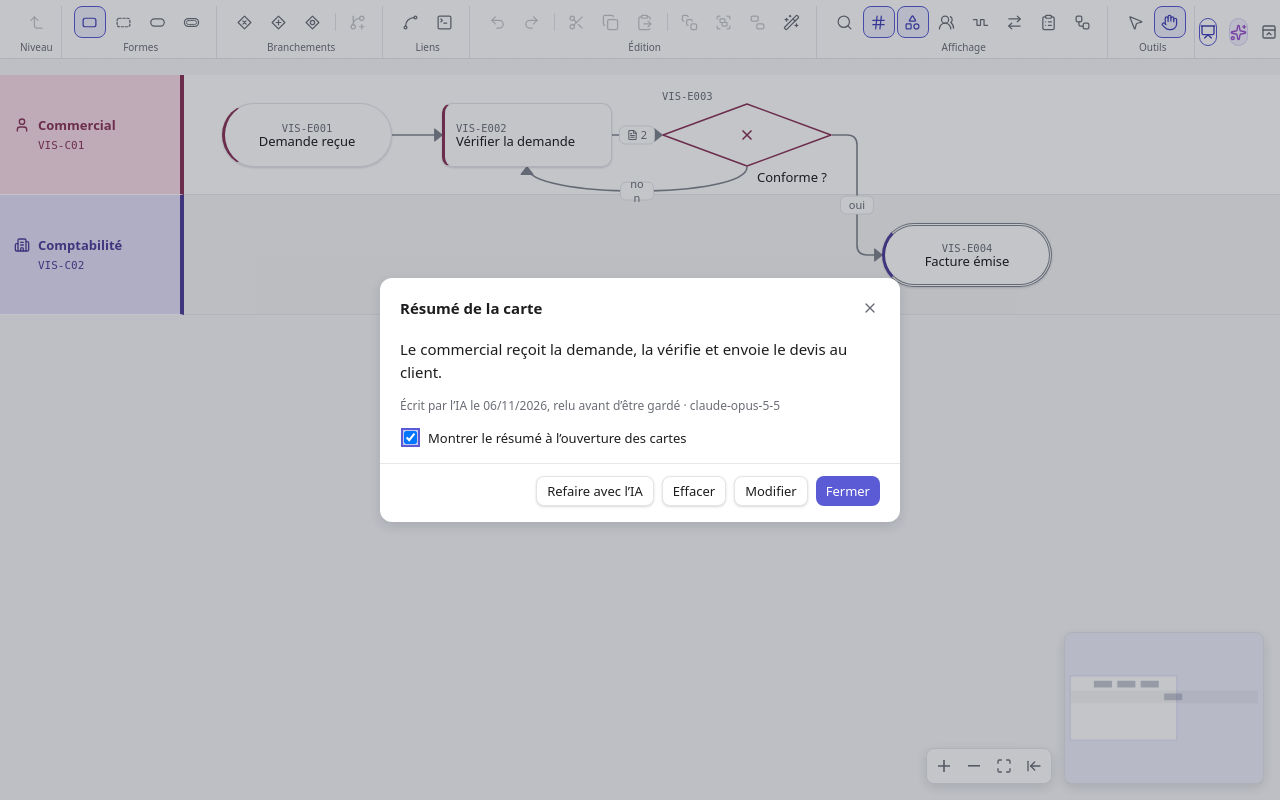
Test: the panel of the summary (plan 3.1, lot R) › writes the sentence corrected by hand with the version it replaces, and erases it
This screenshot has width=1280, height=800.
Step 1. Click the button with test id "summary-edit" → click(771, 491), box [734, 476, 808, 506]
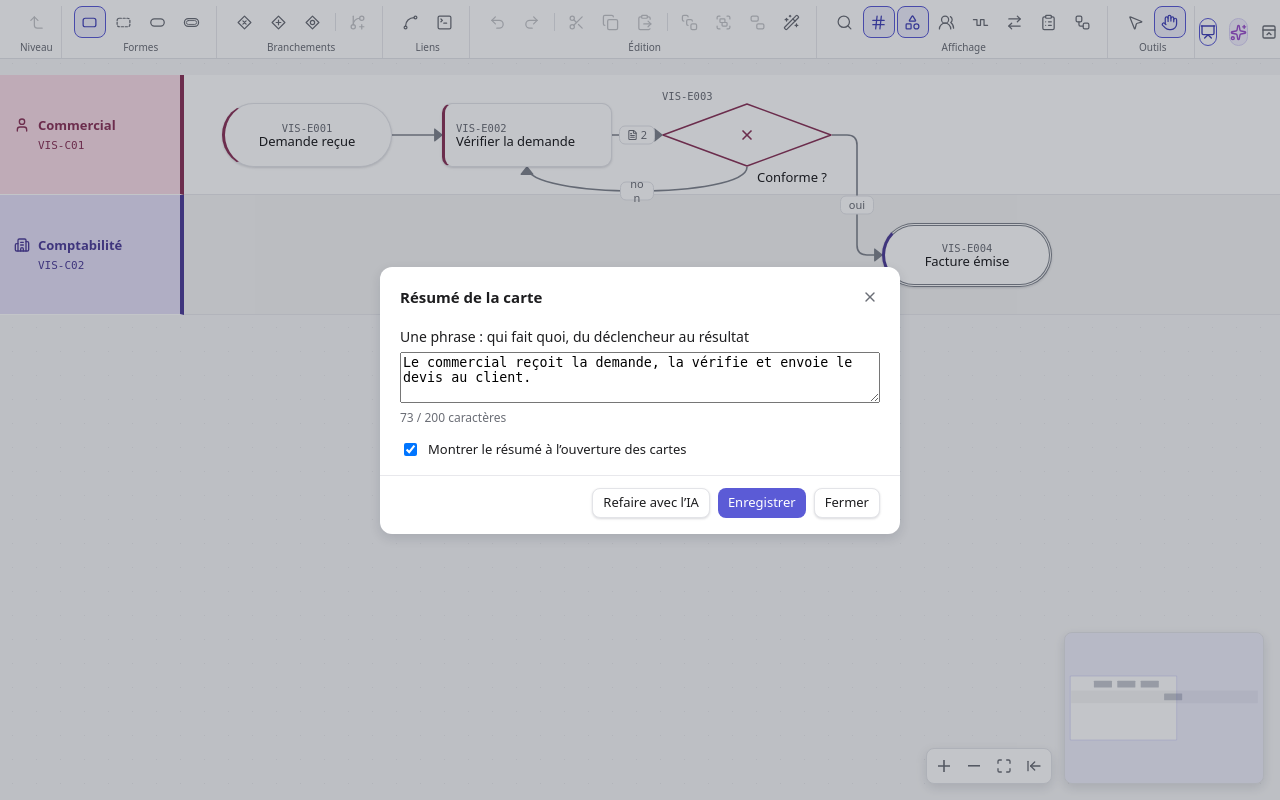
Step 2. Replace the text in the text box with test id "summary-draft" with " Le commercial envoie le devis. " → (640, 377), box [400, 352, 880, 402]
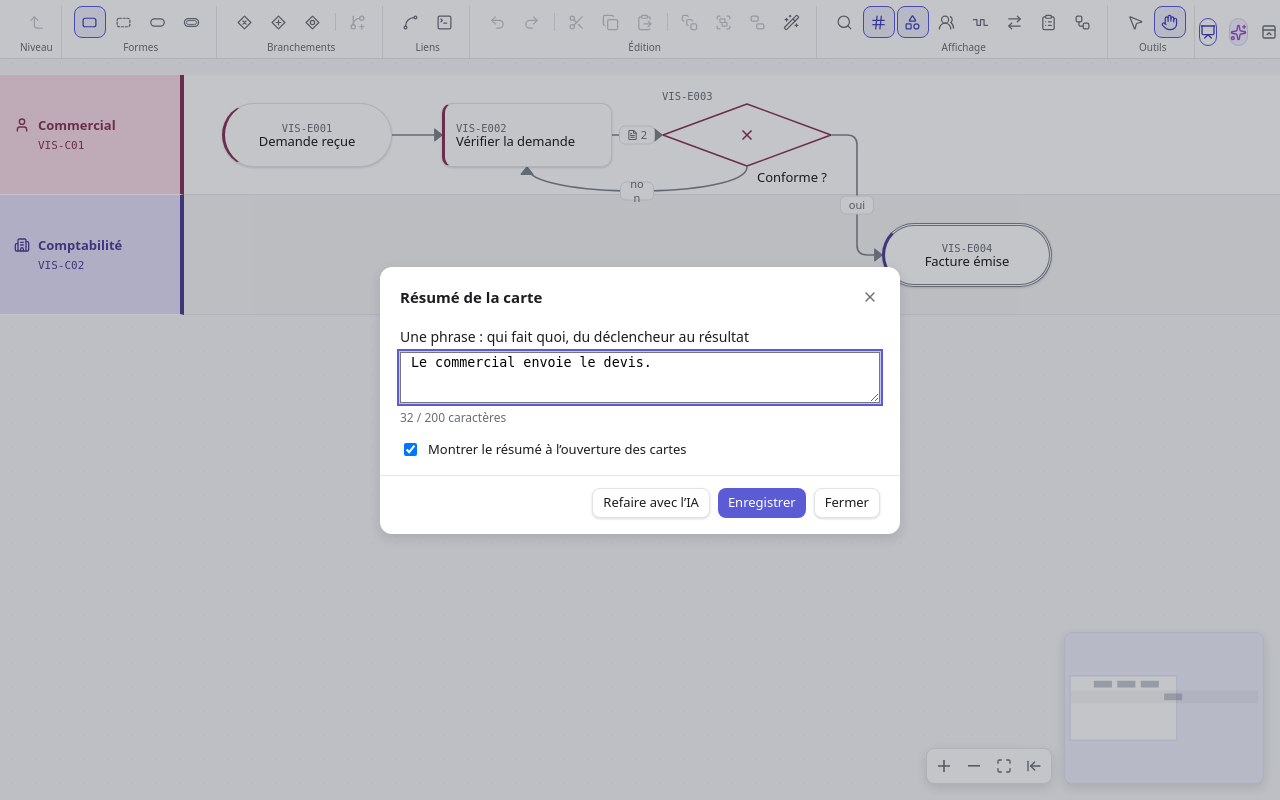
Step 3. Click the button with test id "summary-save" → click(762, 502), box [718, 488, 806, 518]
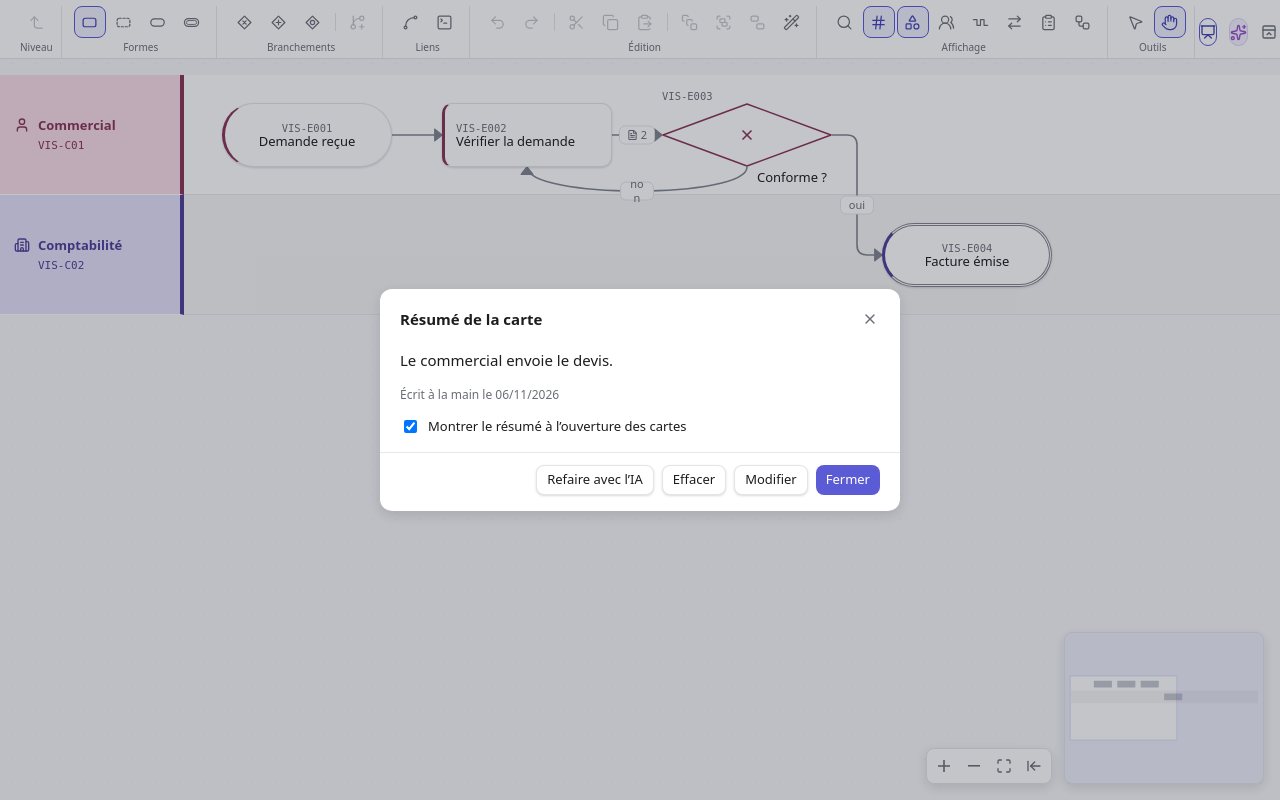
Result: the text with test id "summary-text" reads "Le commercial envoie le devis." at [400, 350, 613, 370]
Step 4. Click the button with test id "summary-erase" → click(694, 480), box [662, 465, 726, 495]
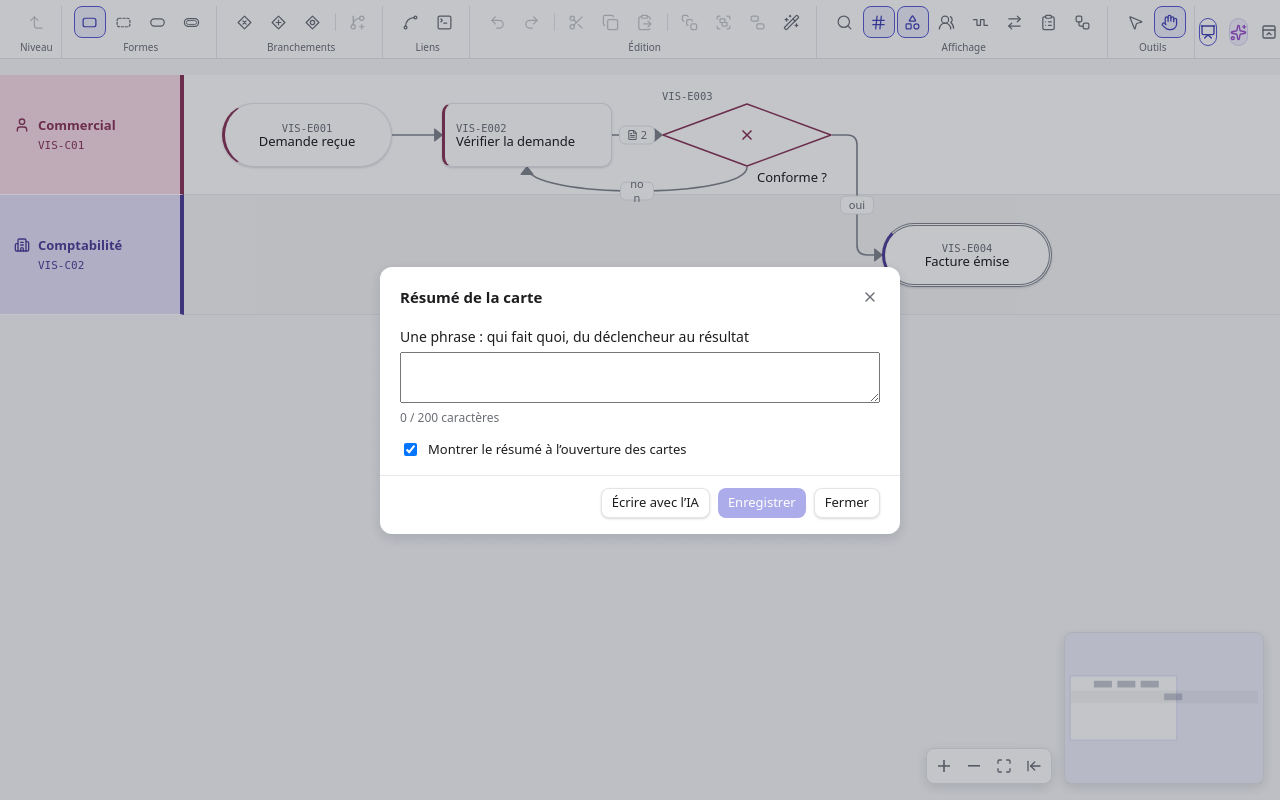
Result: the text box with test id "summary-draft" is empty at [400, 352, 880, 402]
